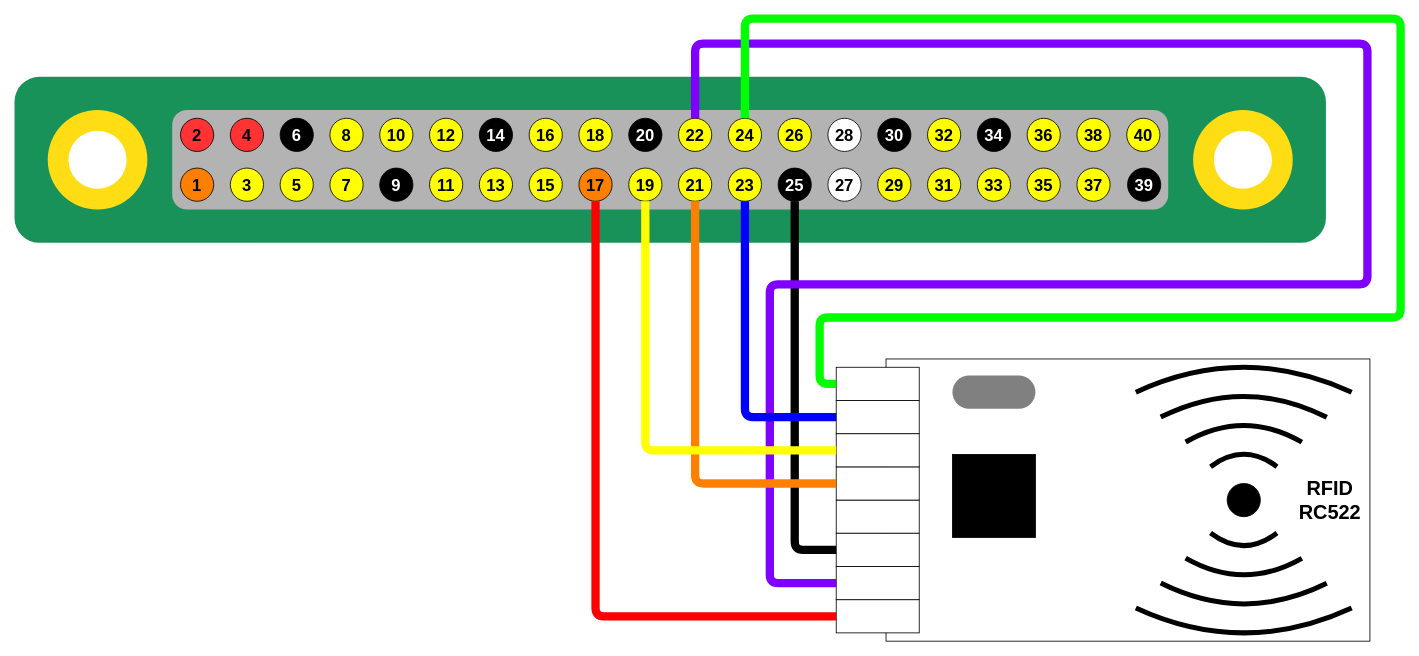
This 1419x656 diagram has some shape labels left out. The centre of each missing label's shape, as x and y in pixels:
"3.3V" belongs at point 877,616.
"GND" belongs at point 877,549.
"IRQ" belongs at point 877,516.
"MISO" belongs at point 877,483.
"MOSI" belongs at point 877,450.
"RST" belongs at point 877,583.
"SCK" belongs at point 877,417.
"SDA" belongs at point 877,383.
